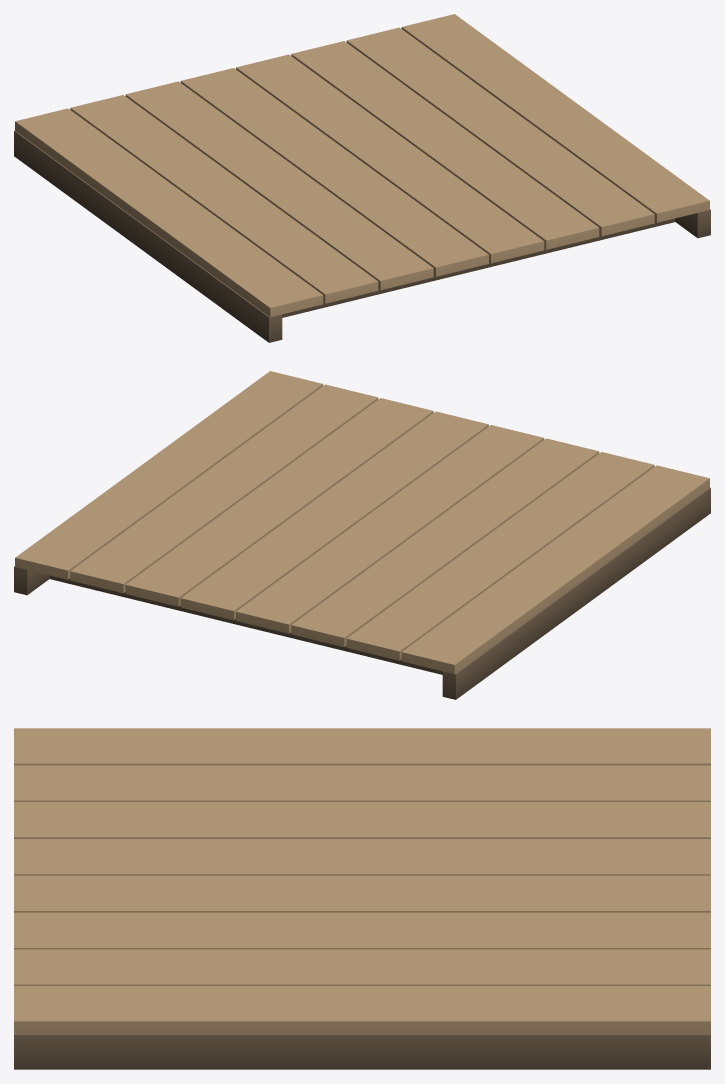
File: rig_deck_4m.glb
The picture shows the model from 3 angles, top to bottom: view 1: azimuth 30°, elevation 25°; view 2: azimuth 150°, elevation 25°; view 3: azimuth 270°, elevation 25°; orthographic projection. The views are drawn at different scales.
Visible parts, largest first — view 1: rig_deck_4m; view 2: rig_deck_4m; view 3: rig_deck_4m.
Part boxes in pixels (bbox=[...]): rig_deck_4m: bbox=[14, 14, 710, 342]; rig_deck_4m: bbox=[14, 371, 710, 699]; rig_deck_4m: bbox=[14, 728, 710, 1069].
Bounding box in the file's own units: 4 × 0.3 × 4.
